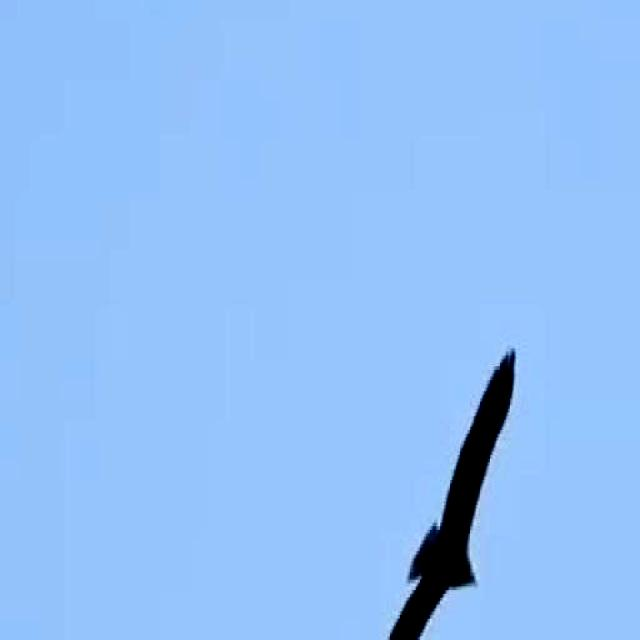airplane: (349, 332, 532, 640)
